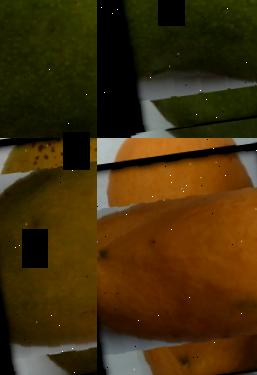PartiallyRipe: (0, 138, 97, 375)
Ripe: (97, 141, 257, 375)
Unripe: (98, 0, 257, 134), (0, 0, 97, 138)
